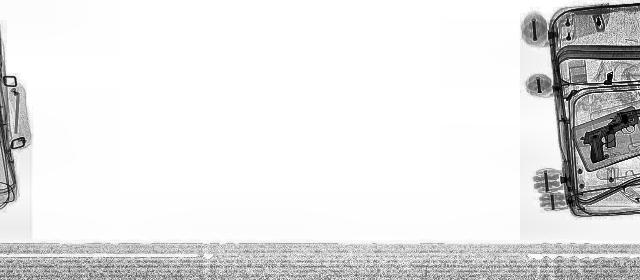Gun: (561, 123, 639, 163), (588, 111, 640, 146)
